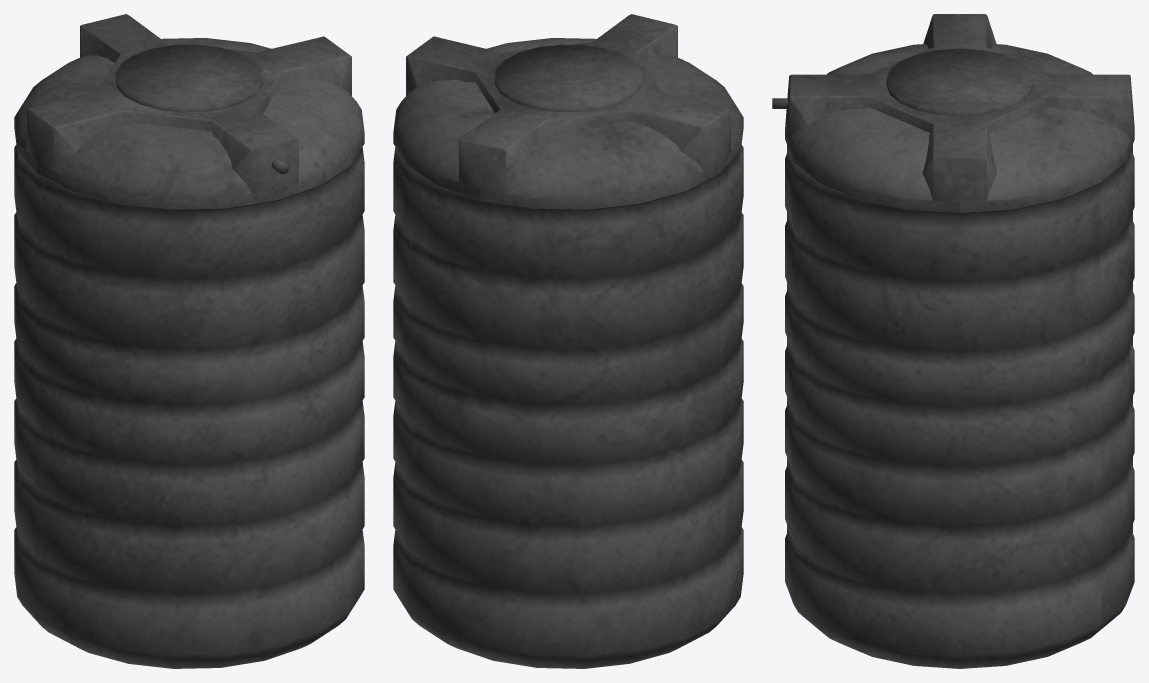
File: SM_FAR_MilkBarrel_02.fbx
The picture shows the model from 3 angles, left to right: view 1: azimuth 30°, elevation 25°; view 2: azimuth 150°, elevation 25°; view 3: azimuth 270°, elevation 25°; orthographic projection.
Visible parts, largest first — view 1: SM_FAR_MilkBarrel_02.mo; view 2: SM_FAR_MilkBarrel_02.mo; view 3: SM_FAR_MilkBarrel_02.mo.
Part boxes in pixels (x1,y1,x2,y2): SM_FAR_MilkBarrel_02.mo: (14, 14, 364, 668); SM_FAR_MilkBarrel_02.mo: (393, 14, 743, 668); SM_FAR_MilkBarrel_02.mo: (772, 14, 1134, 668).
Size of the model in its own units: 97.21 by 164 by 101.
